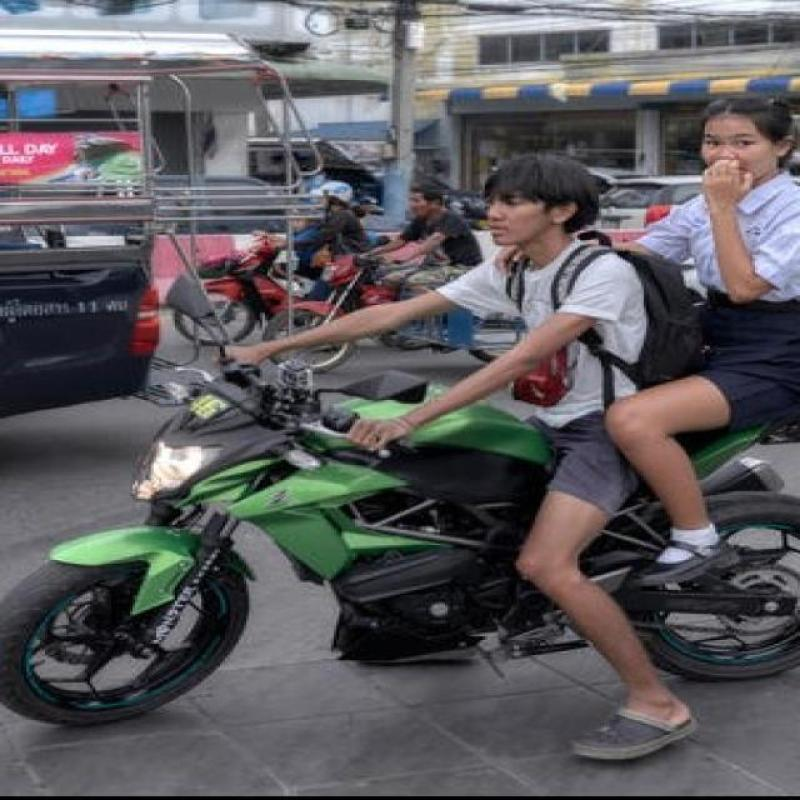nohelmet: (455, 143, 633, 253), (684, 86, 800, 190)
